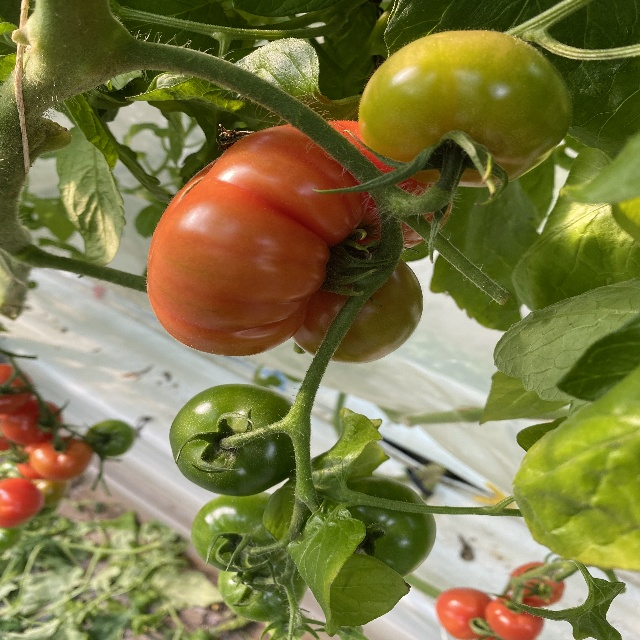l_fully_ripened: (148, 119, 454, 356)
l_green: (168, 383, 307, 496), (348, 475, 438, 579), (192, 491, 289, 571), (219, 555, 307, 623)
l_half_ripened: (357, 29, 571, 187), (292, 253, 424, 364)
